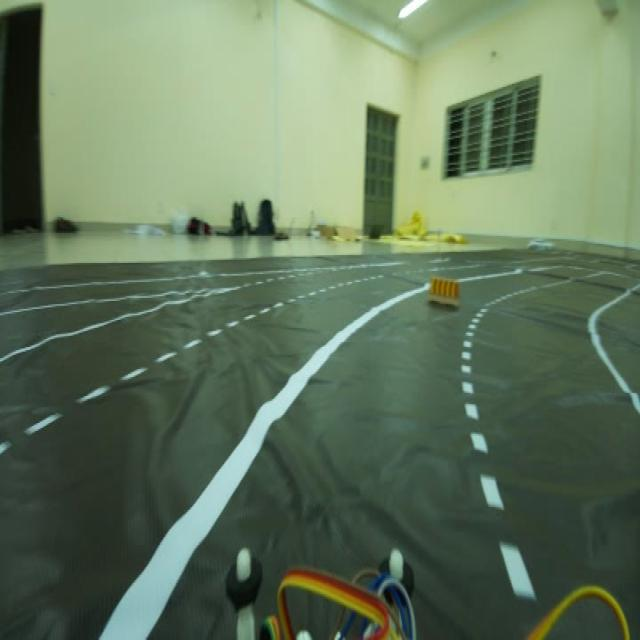roadblock: (422, 267, 466, 319)
